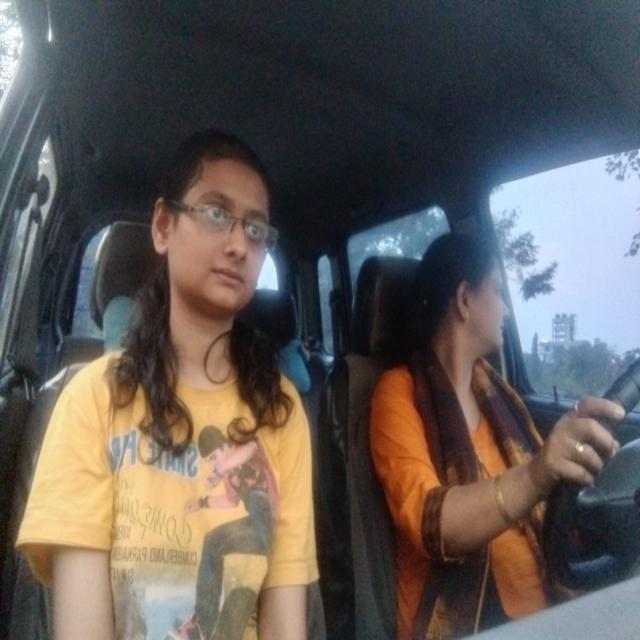LeftRight: (416, 227, 517, 359)
person: (152, 128, 284, 324)
